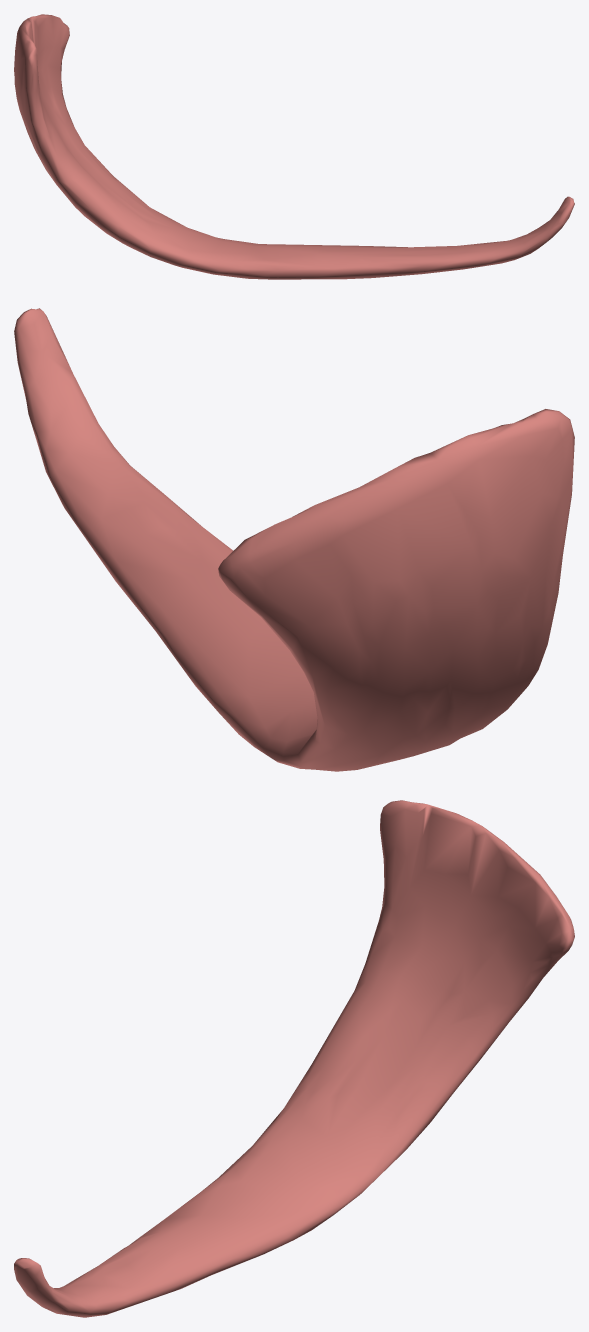
The picture shows the model from 3 angles, top to bottom: view 1: azimuth 30°, elevation 25°; view 2: azimuth 150°, elevation 25°; view 3: azimuth 270°, elevation 25°; orthographic projection. The views are drawn at different scales.
Visible parts, largest first — view 1: ZA_795b2fc6873be2cb; view 2: ZA_795b2fc6873be2cb; view 3: ZA_795b2fc6873be2cb.
Part boxes in pixels (left/top/right/bottom): ZA_795b2fc6873be2cb: left=14, top=14, right=574, bottom=279; ZA_795b2fc6873be2cb: left=14, top=308, right=574, bottom=771; ZA_795b2fc6873be2cb: left=14, top=800, right=574, bottom=1317.
Bounding box in the file's own units: 0.0294 × 0.0162 × 0.026.
